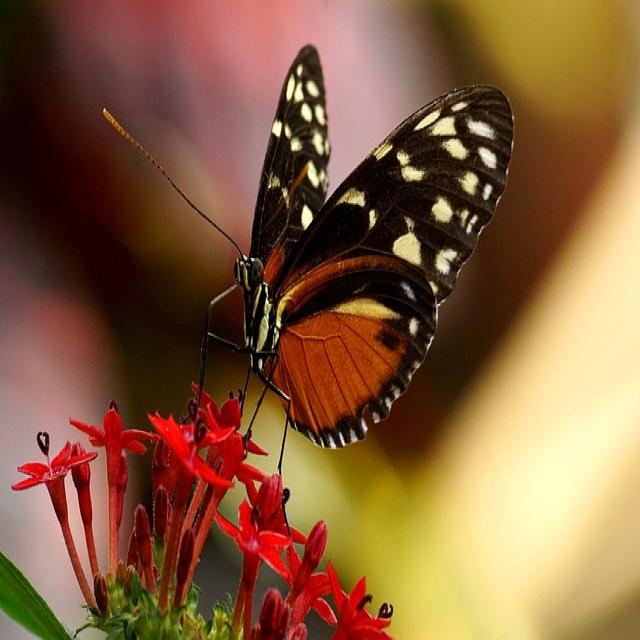butterfly: (204, 46, 515, 452)
